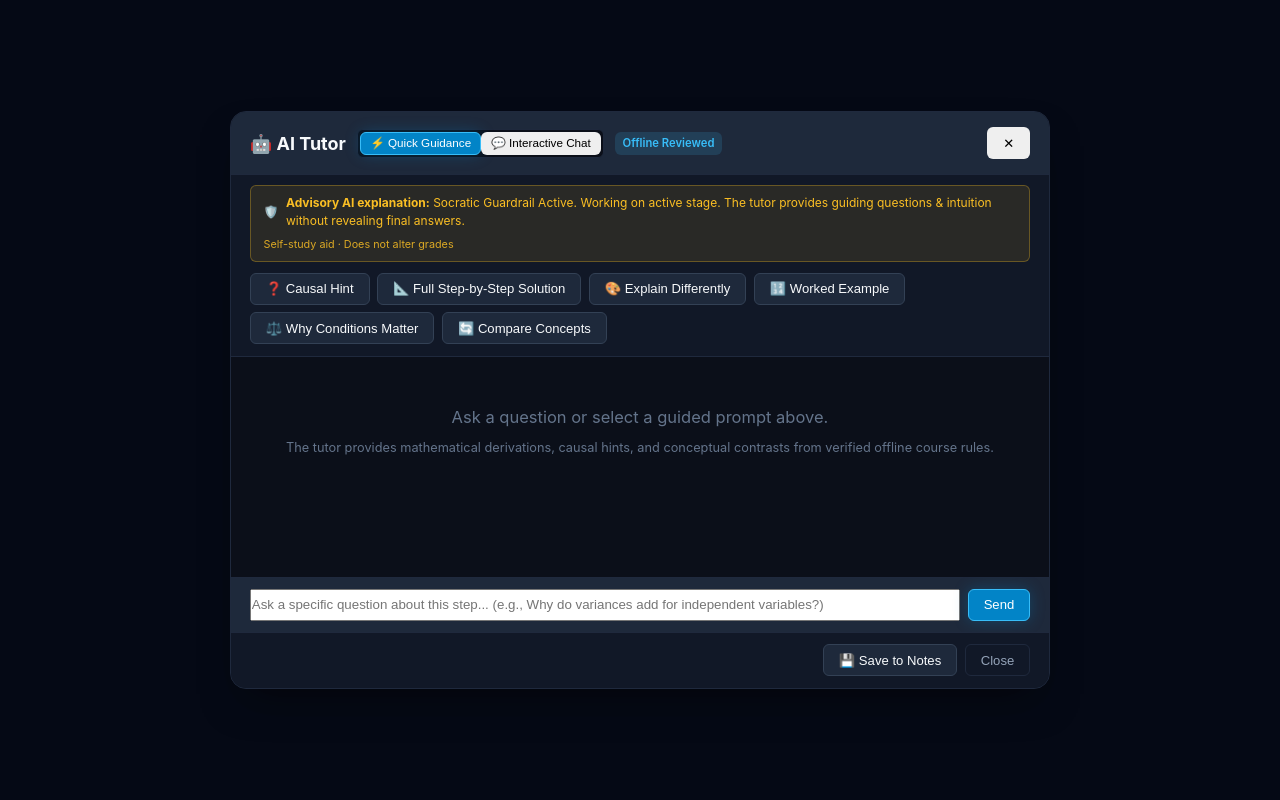
it: AITutorPanel Component › allows saving entire chat conversation transcript to notes
// Switch to Chat tab
Click the button "💬 Interactive Chat" at (541, 143), box x1=481 y1=132 x2=601 y2=155
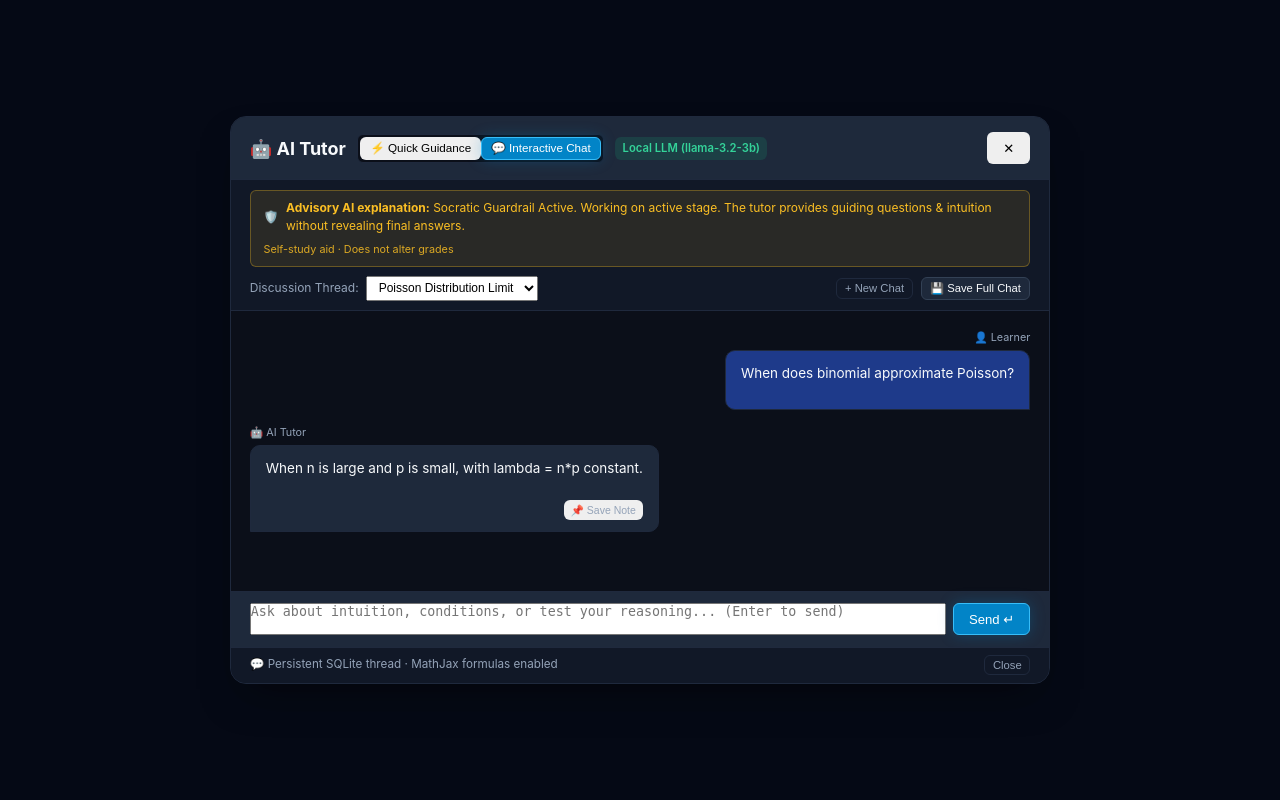
Check: the text "When does binomial approximate Poisson?" is shown, box x1=741 y1=362 x2=1014 y2=385
// Click Save Full Chat
Click the button "💾 Save Full Chat" at (976, 288), box x1=921 y1=277 x2=1030 y2=300
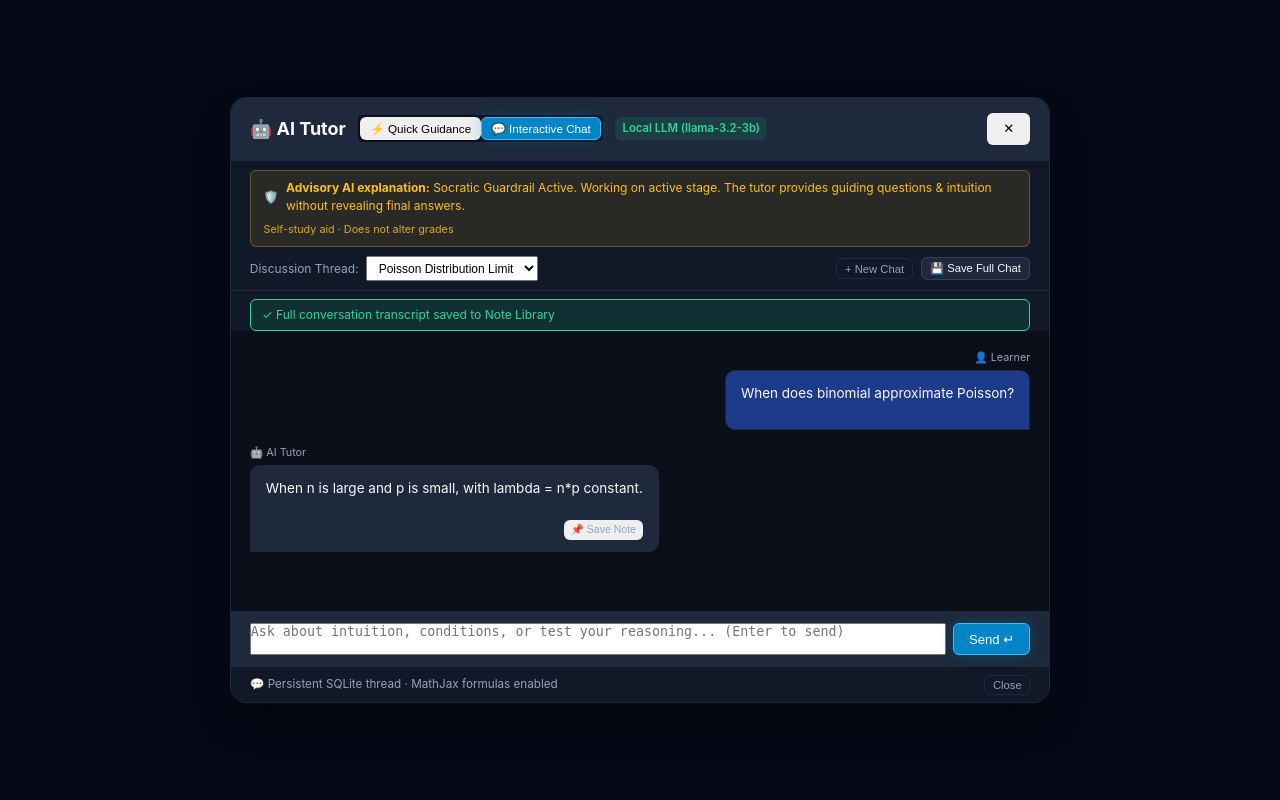
Check: the text "✓ Full conversation transcript saved to Note Library" is shown, box x1=250 y1=299 x2=1030 y2=331
